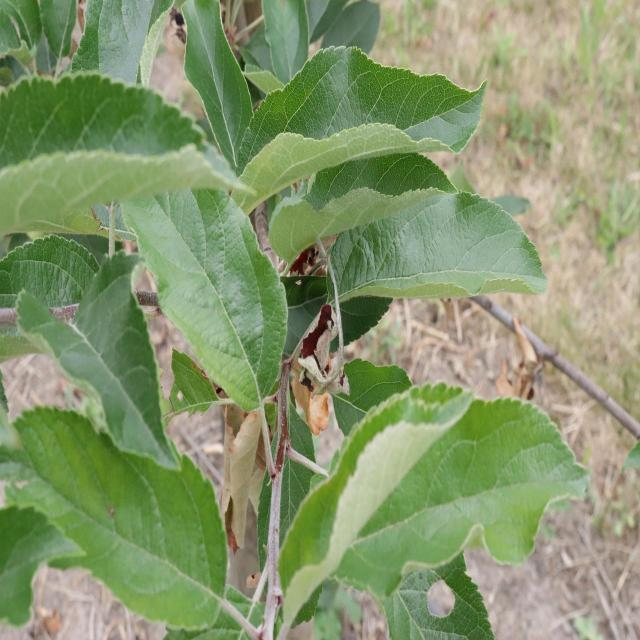-FireBlight-: (290, 291, 348, 430), (222, 394, 266, 551), (500, 323, 526, 399), (284, 238, 328, 268)
